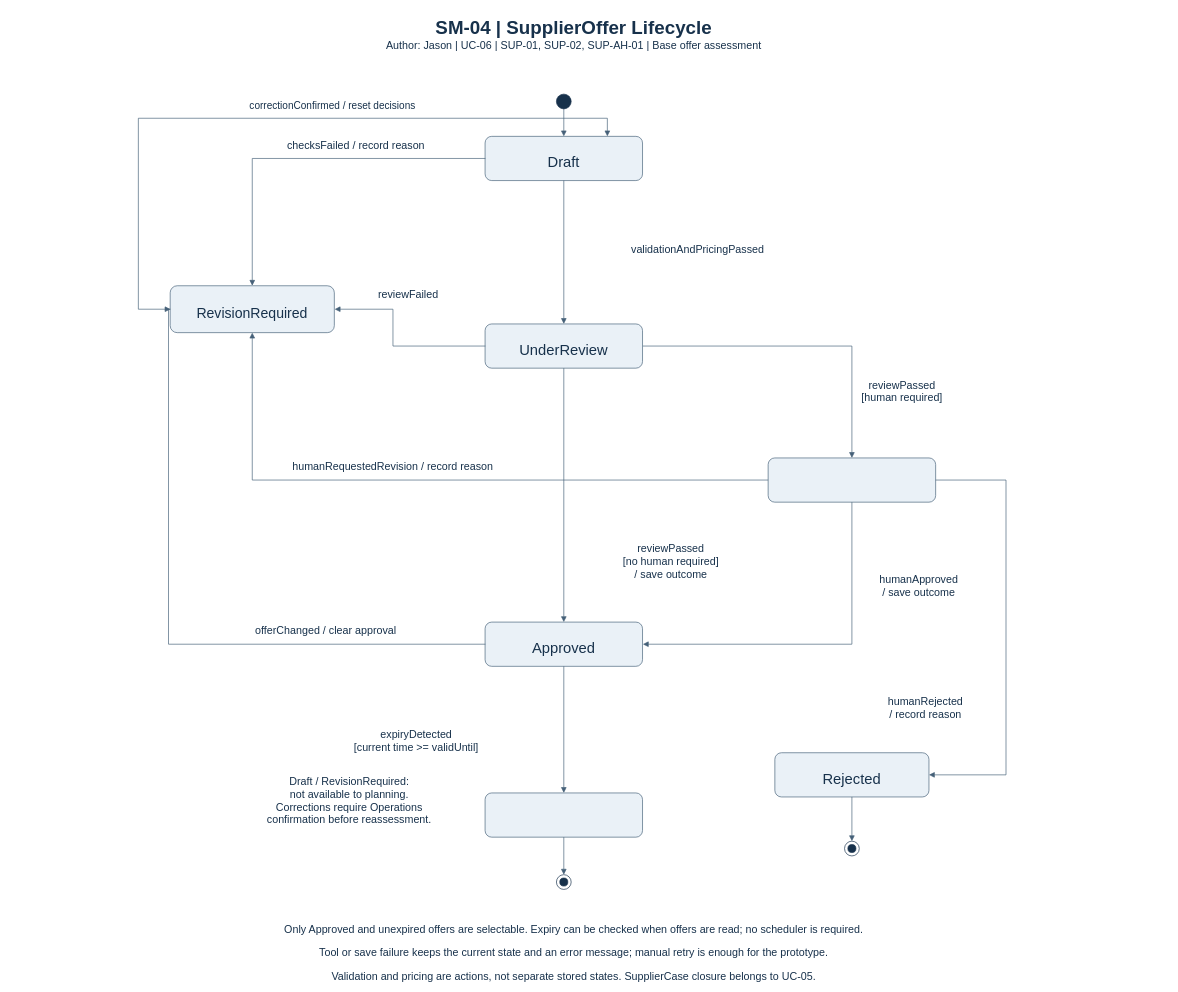
This 1178x992 diagram has some shape labels left out. Each missing label, with the centre of its shape:
AwaitingApproval: [851,479]
Expired: [563,814]
